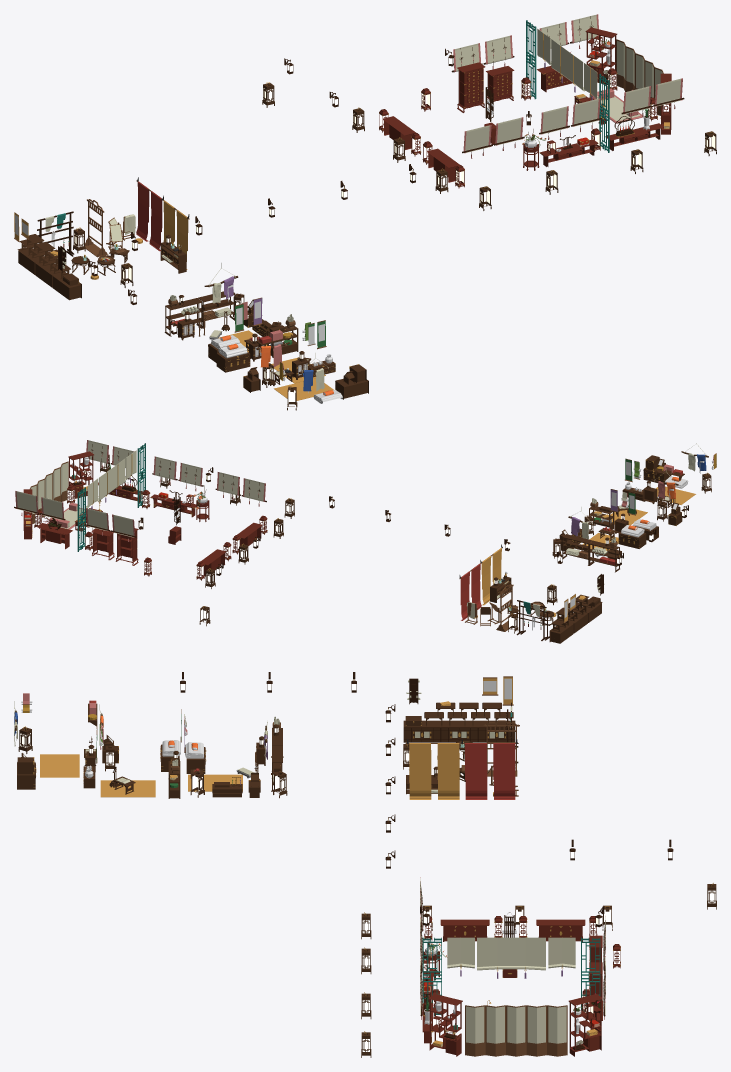
Rendered from 04.29.22 all furniture_unbaked.fbx.
3 views of the same model, one above another, from view 1: azimuth 30°, elevation 25°; view 2: azimuth 150°, elevation 25°; view 3: azimuth 270°, elevation 25° (orthographic). The views are drawn at different scales.
Visible parts, largest first — view 1: W_원단, J_가림발, J_병풍, J_파티션, J_커튼.004, J_커튼.005, J_커튼.003, J_커튼.002, W_책장, J_커튼.001, J_3층장, 복도선반 (+6 smaller); view 2: W_원단, J_가림발, J_병풍, J_파티션, J_커튼.003, J_커튼.004, J_커튼.002, J_커튼.001, W_책장, 복도선반, J_커튼.005, J_사방탁자 R (+17 smaller); view 3: J_병풍, W_원단, J_가림발, W_책장, J_파티션, J_사방탁자 R, J_사방탁자 L, G_01 등메, G_02 등메, J_복도책장02, J_복도책장01, W_책상 01.
Boxes of the visible parts, x1,y1,x2,y2 form: W_원단: [136, 177, 189, 269]; J_가림발: [537, 28, 599, 98]; J_병풍: [616, 39, 663, 115]; J_파티션: [526, 20, 609, 152]; J_커튼.004: [462, 117, 524, 158]; J_커튼.005: [621, 78, 684, 119]; J_커튼.003: [539, 98, 601, 139]; J_커튼.002: [451, 35, 514, 72]; W_책장: [17, 247, 81, 300]; J_커튼.001: [539, 14, 600, 48]; J_3층장: [457, 62, 485, 112]; 복도선반: [164, 291, 235, 336]; W_원단: [459, 544, 502, 620]; J_가림발: [86, 450, 136, 508]; J_병풍: [30, 461, 68, 523]; J_파티션: [77, 443, 145, 551]; J_커튼.003: [152, 456, 203, 491]; J_커튼.004: [215, 472, 266, 506]; J_커튼.002: [85, 508, 136, 541]; J_커튼.001: [14, 491, 65, 524]; W_책장: [549, 602, 602, 643]; 복도선반: [562, 534, 619, 572]; J_커튼.005: [86, 440, 134, 468]; J_사방탁자 R: [68, 451, 93, 498]; J_병풍: [465, 1005, 567, 1056]; W_원단: [405, 739, 518, 799]; J_가림발: [447, 937, 575, 970]; W_책장: [403, 720, 515, 742]; J_파티션: [422, 937, 600, 1016]; J_사방탁자 R: [428, 994, 462, 1056]; J_사방탁자 L: [568, 994, 602, 1056]; G_01 등메: [40, 754, 79, 777]; G_02 등메: [100, 780, 155, 797]; J_복도책장02: [536, 919, 585, 941]; J_복도책장01: [440, 919, 489, 941]; W_책상 01: [424, 712, 513, 726].
Size of the model in its own units: 2536 by 310 by 2262.
